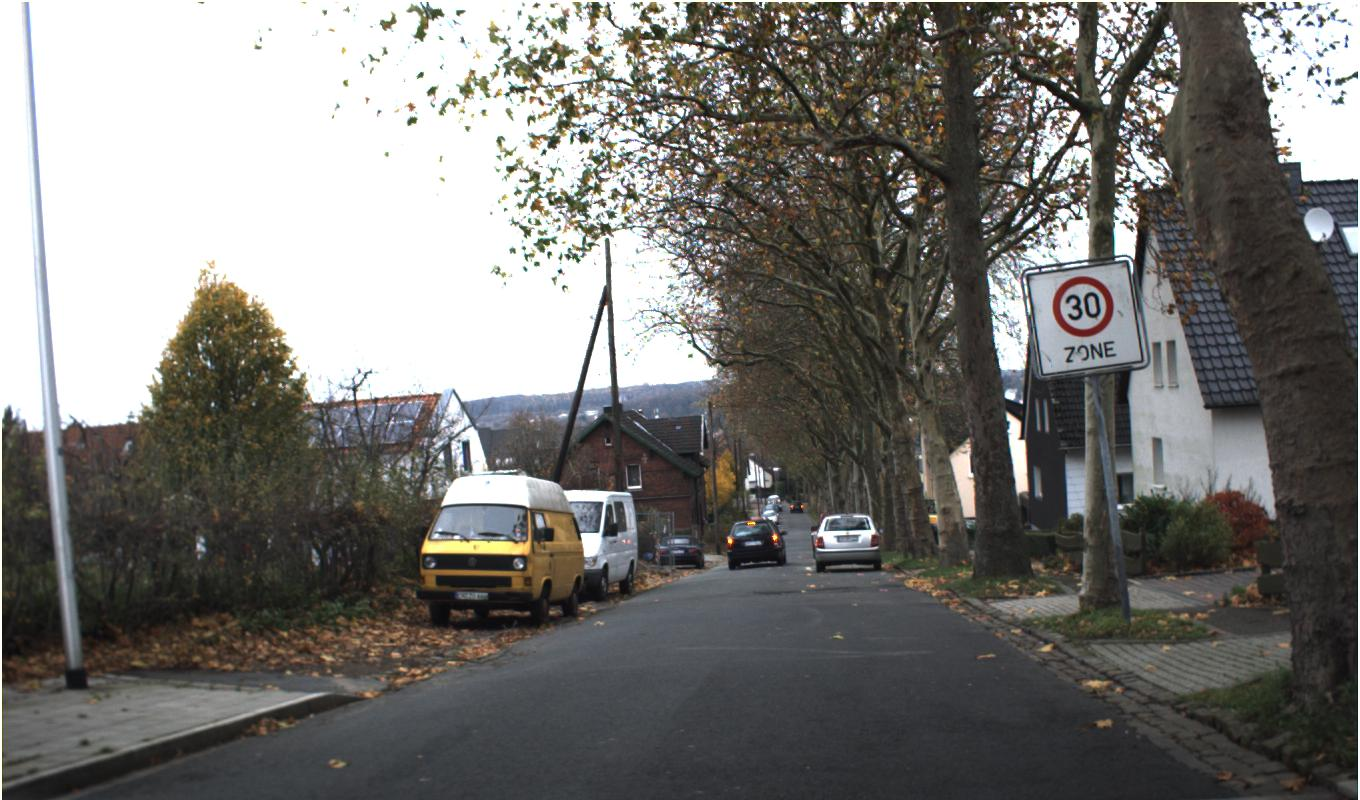prohibitory: (1051, 275, 1115, 338)
